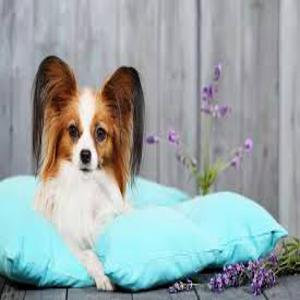yell: (32, 56, 145, 292)
